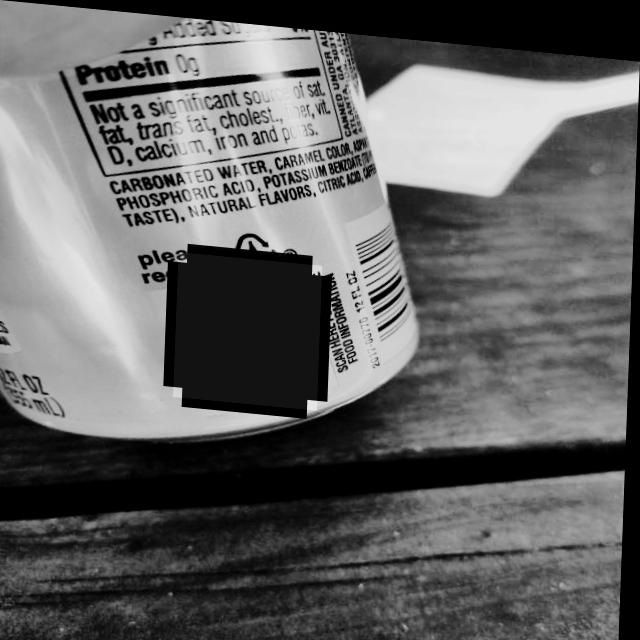qr_code: (176, 248, 324, 404)
